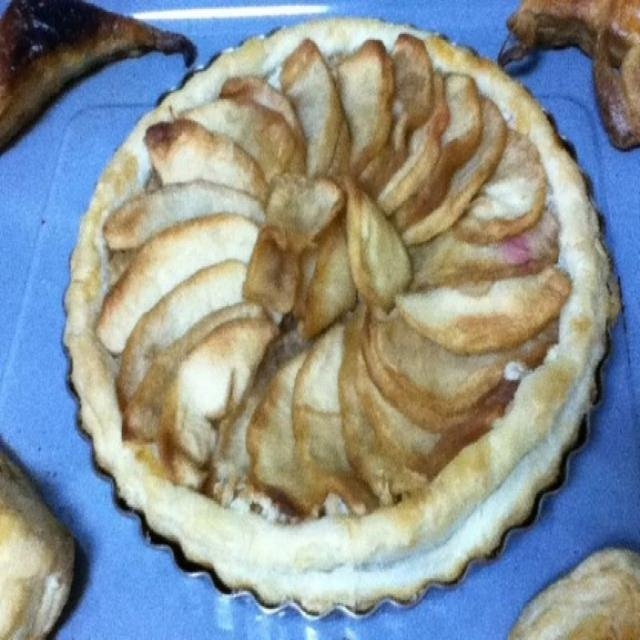Apple: (62, 5, 612, 633)
